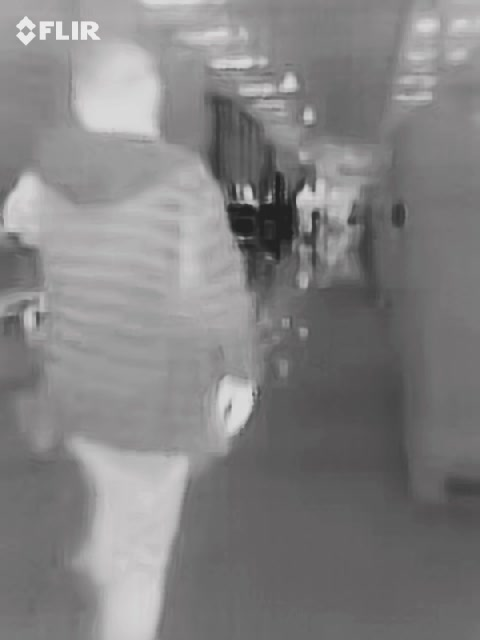head: (74, 44, 160, 137)
